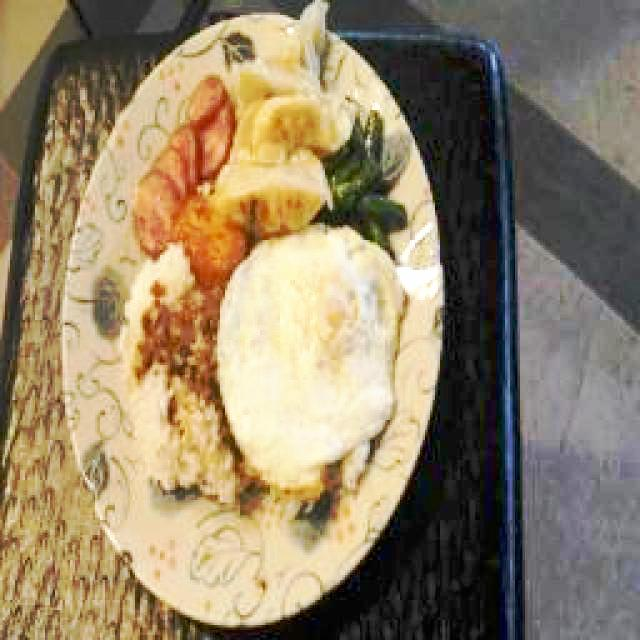chinese_sausage: (131, 77, 234, 251)
curry: (137, 282, 220, 429)
fried_dumplings: (210, 152, 333, 231), (239, 0, 328, 95), (240, 92, 352, 158)
fried_eggs: (220, 224, 406, 488)
rice: (123, 246, 273, 505)
water_spinach: (325, 104, 408, 259)
